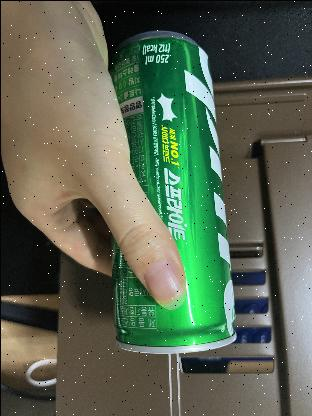Can: (107, 26, 235, 354)
